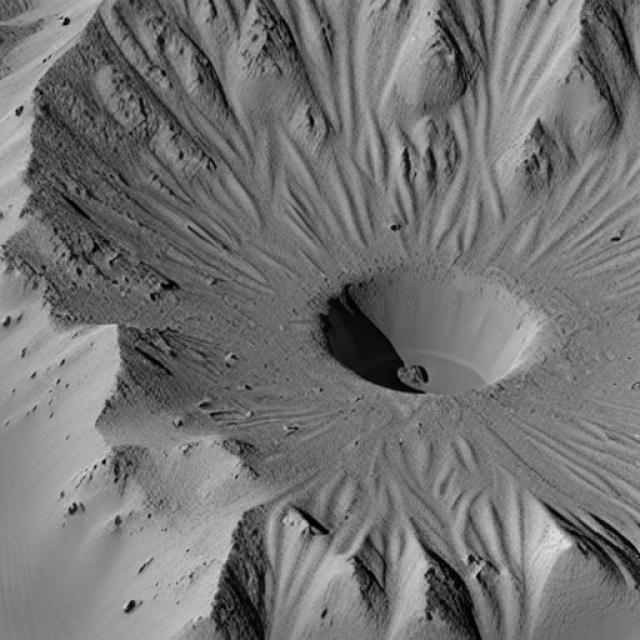crater: (318, 263, 550, 397)
